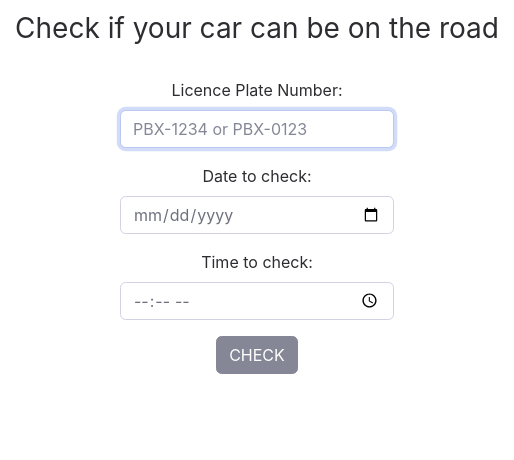
form shold not recive wrong province letters in the licence plate input
The width and height of the screenshot is (514, 460).
Type "ÑLV-1234" into the field with placeholder "PBX-1234 or PBX-0123" at (257, 129), box left=120, top=110, right=394, bottom=148
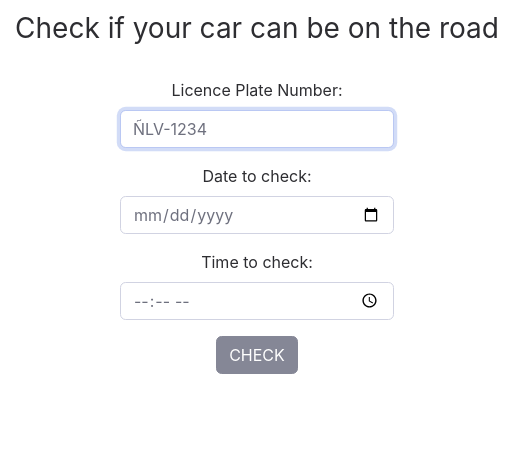
Click the button "CHECK" at (257, 355), box left=216, top=336, right=298, bottom=374
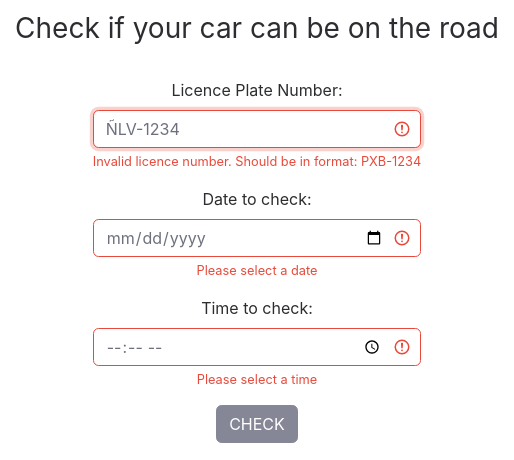
expect the text "Invalid licence number. Should be in format: PXB-1234" is shown: met, box left=93, top=152, right=421, bottom=171
